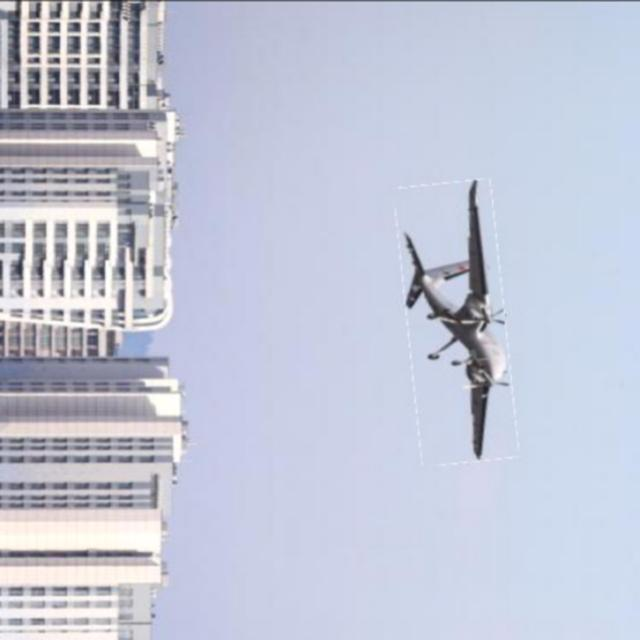plane: (402, 178, 515, 461)
